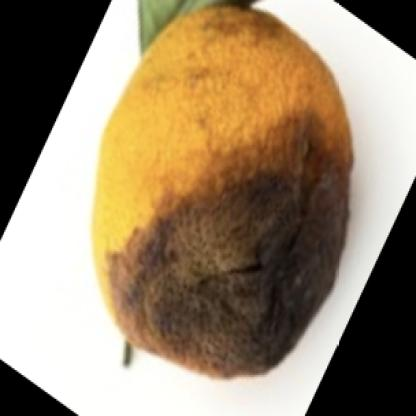rotten: (93, 5, 353, 372)
